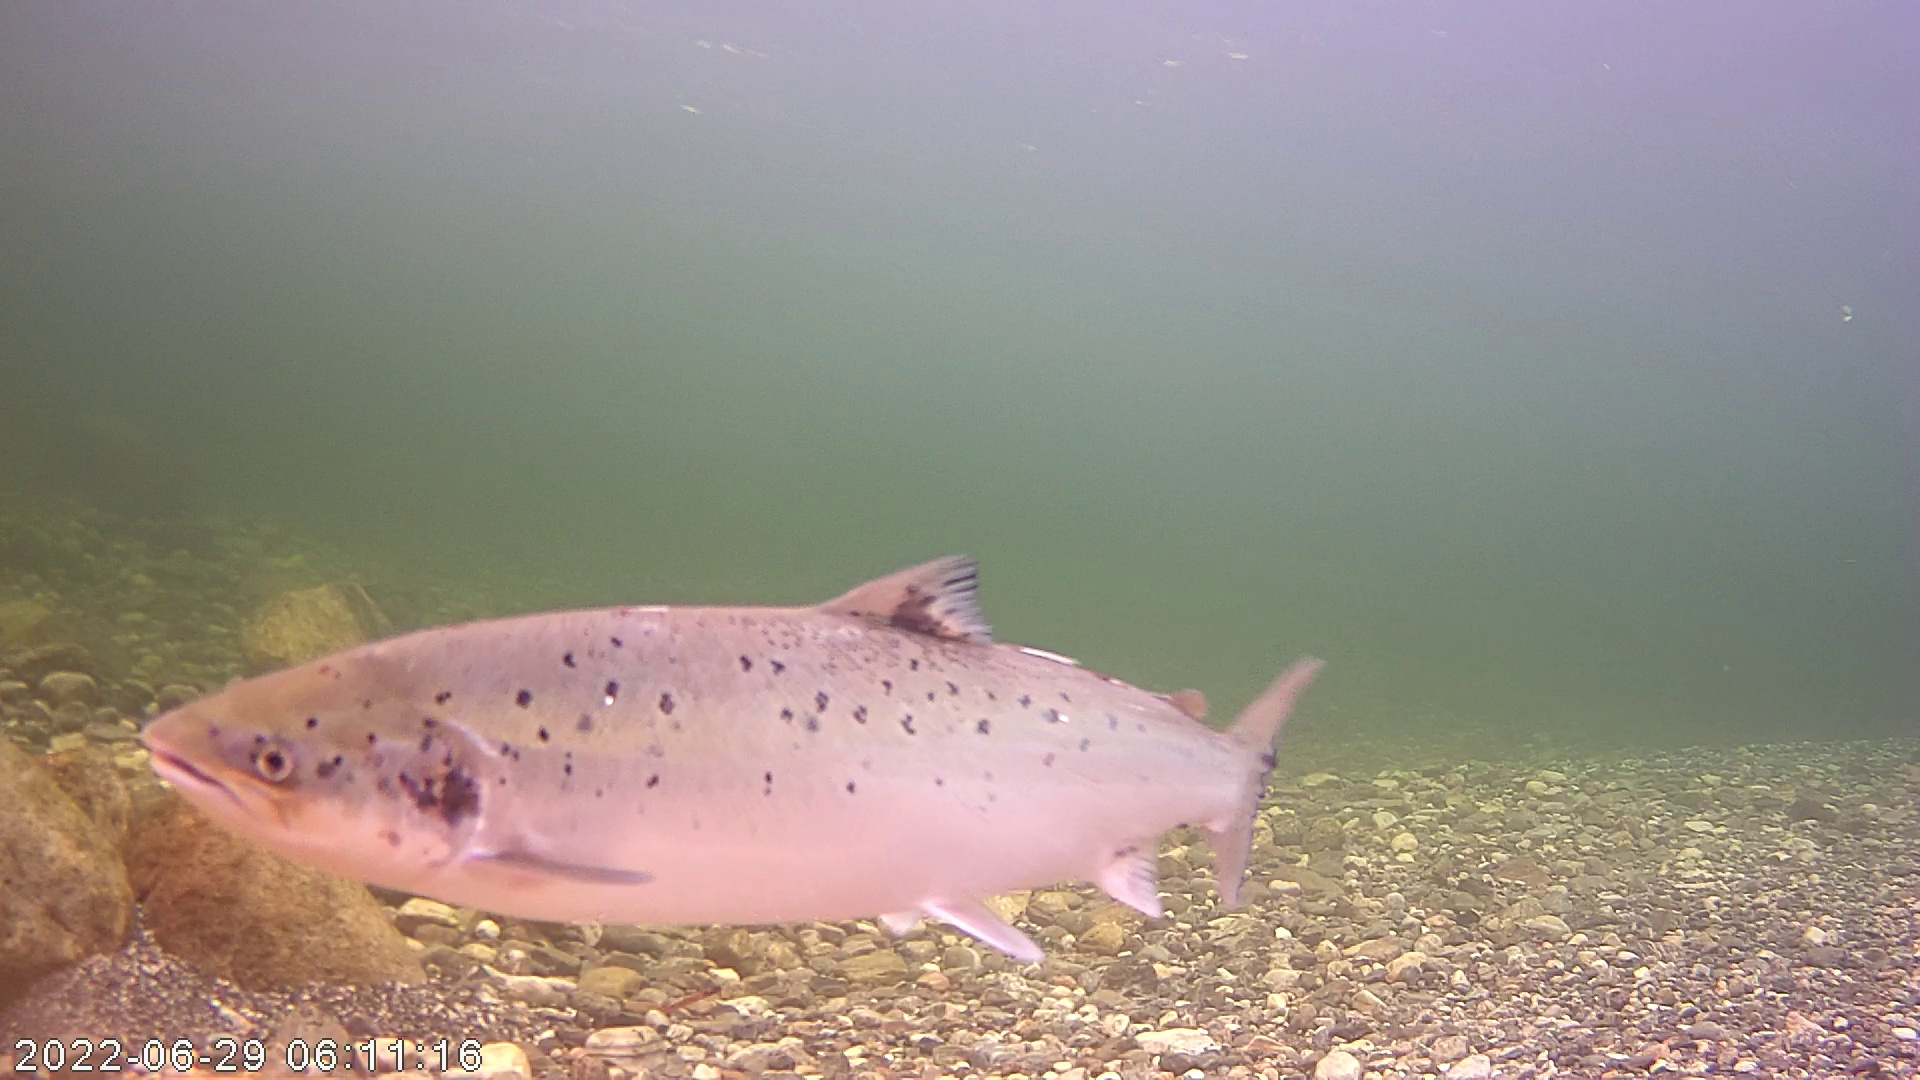salmon: (138, 545, 1324, 967)
